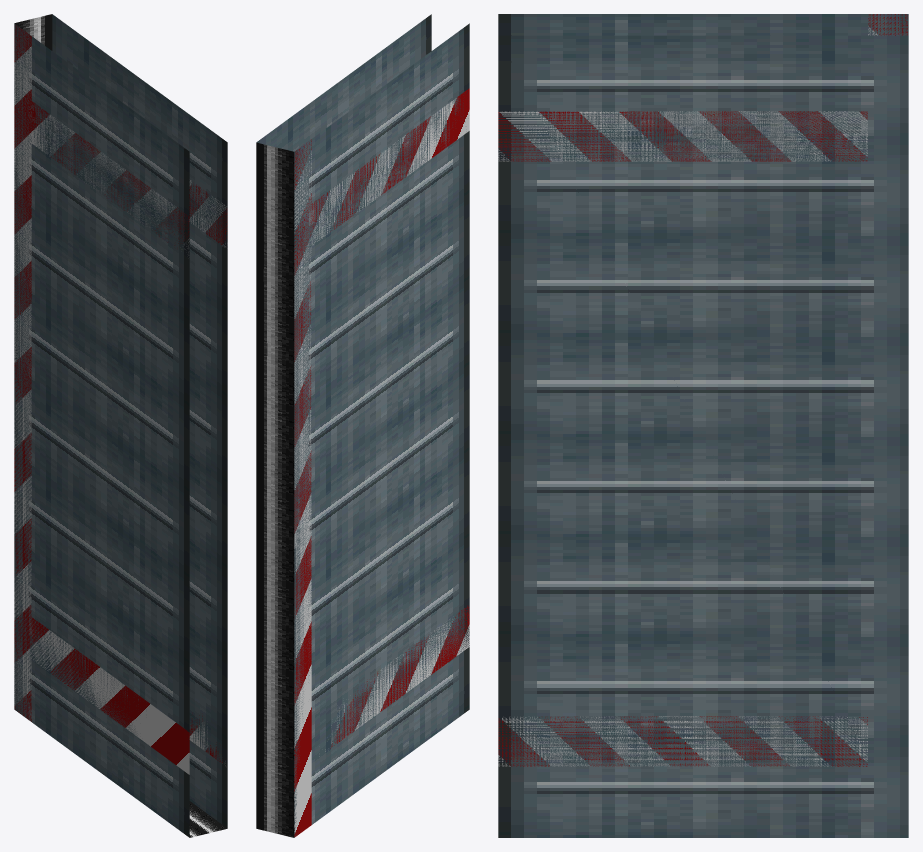
The model's file is primary_137.glb.
3 views of the same model, side by side, from view 1: azimuth 30°, elevation 25°; view 2: azimuth 150°, elevation 25°; view 3: azimuth 270°, elevation 25° (orthographic). The views are drawn at different scales.
Visible parts, largest first — view 1: Object; view 2: Object; view 3: Object.
Part boxes in pixels (x1,y1,x2,y2): Object: (14, 14, 227, 837); Object: (256, 14, 469, 837); Object: (498, 14, 908, 837).
Bounding box in the file's own units: 0.1814 × 3.13 × 1.45.
5 materials, 5 textured.
